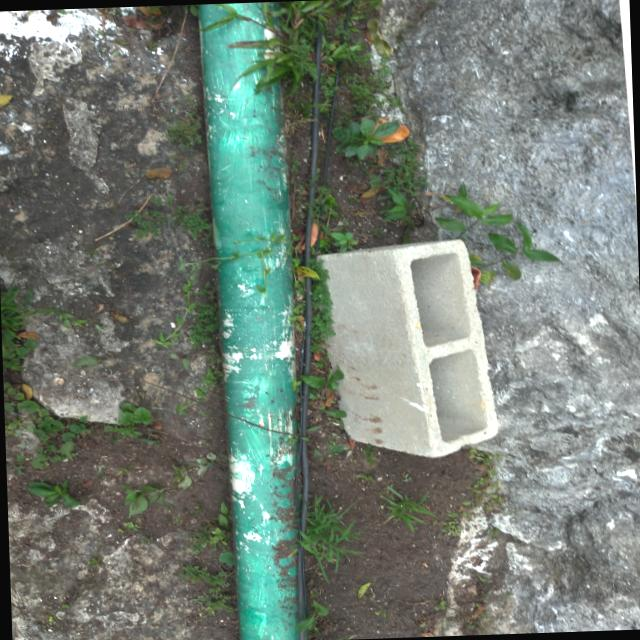gas: (201, 1, 298, 640)
